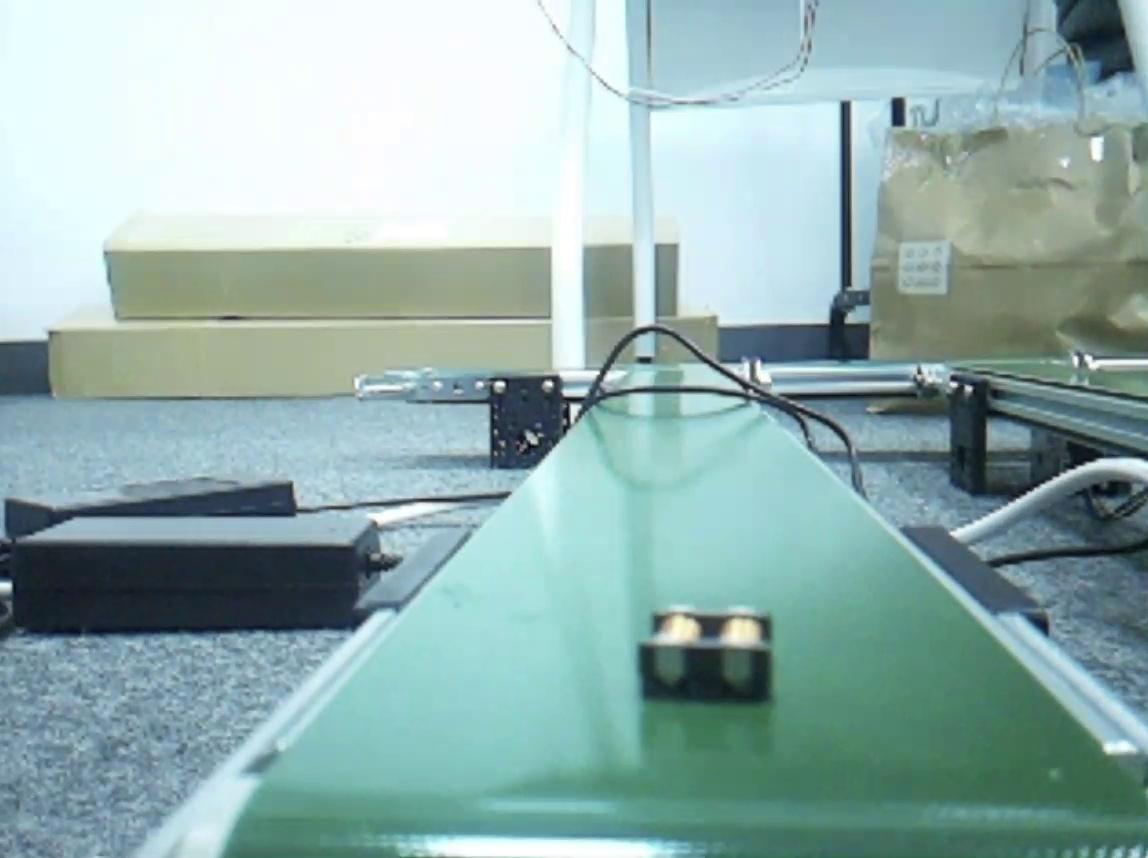inductor: (640, 608, 775, 702)
